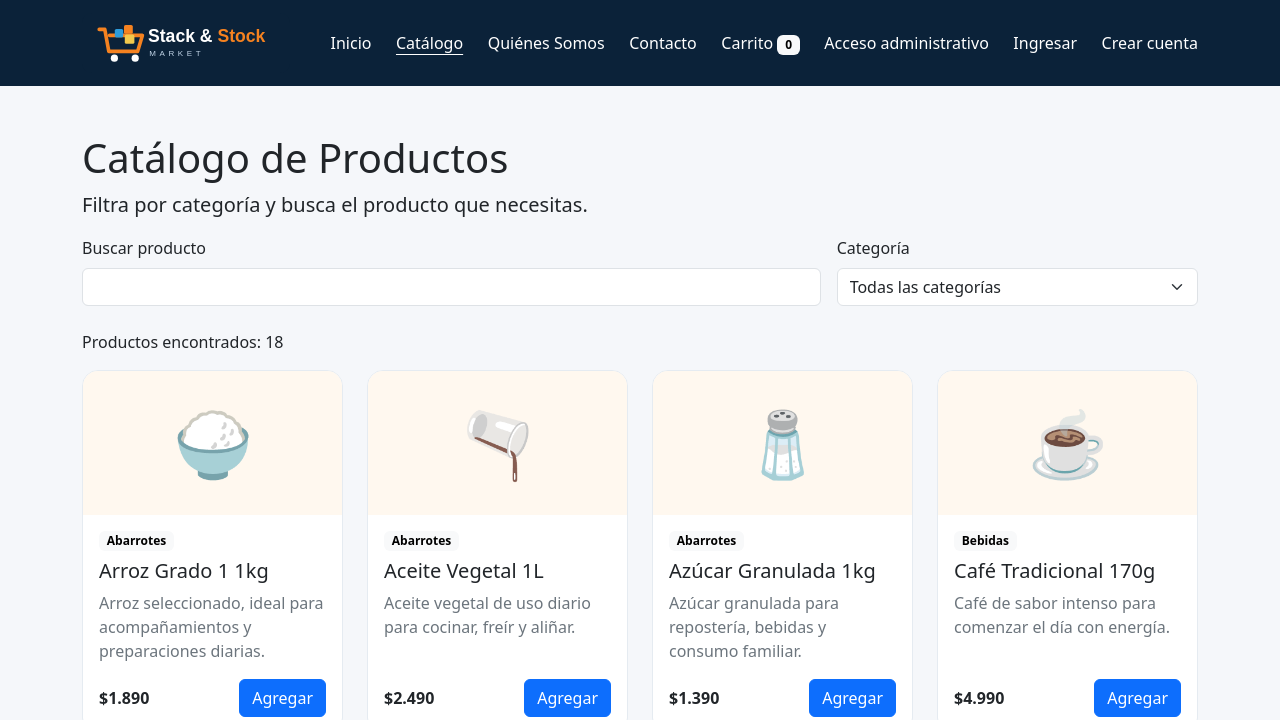
it: Catálogo y carrito compartidos › muestra los dieciocho productos originales y combina búsqueda sin acentos con categoría
Type " cafe " into the search field labelled "Buscar producto". click: (451, 287)
box: x1=82 y1=268 x2=821 y2=306
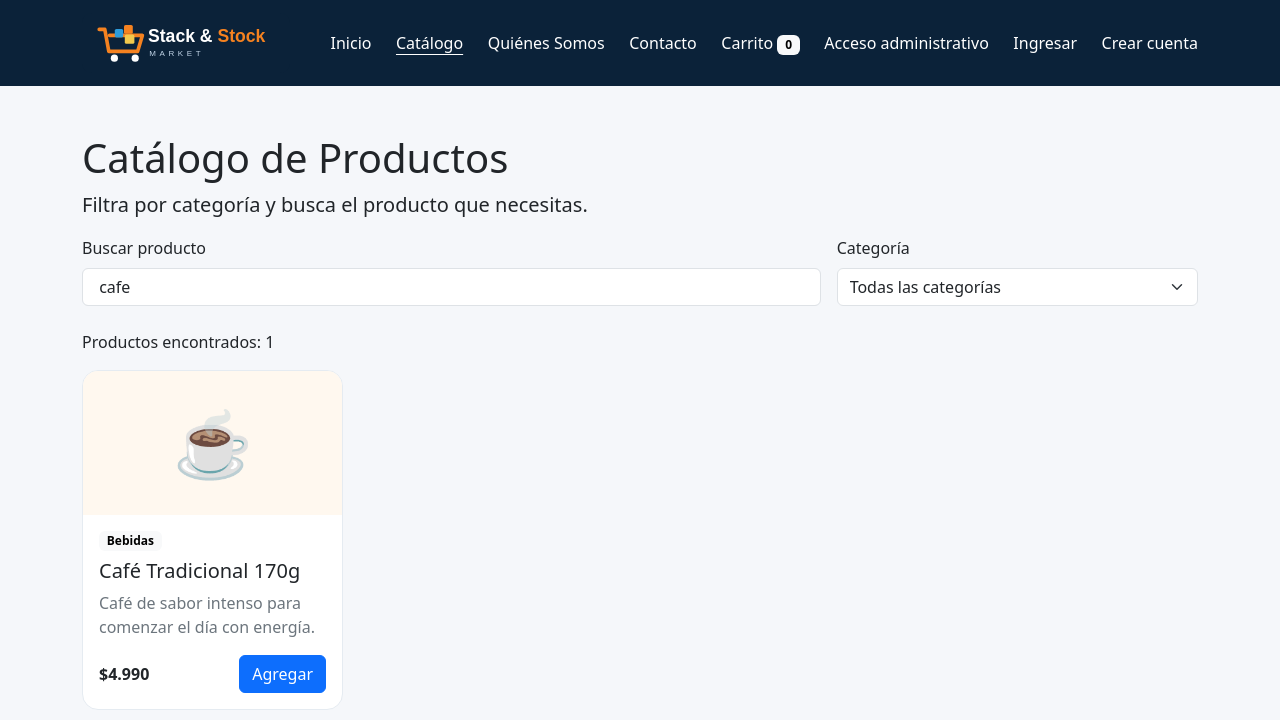
Expected: the heading "Café Tradicional 170g" is shown, x1=99 y1=559 x2=326 y2=583
Select "Lácteos" in the dropdown labelled "Categoría". click: (1017, 287)
box: x1=837 y1=268 x2=1198 y2=306
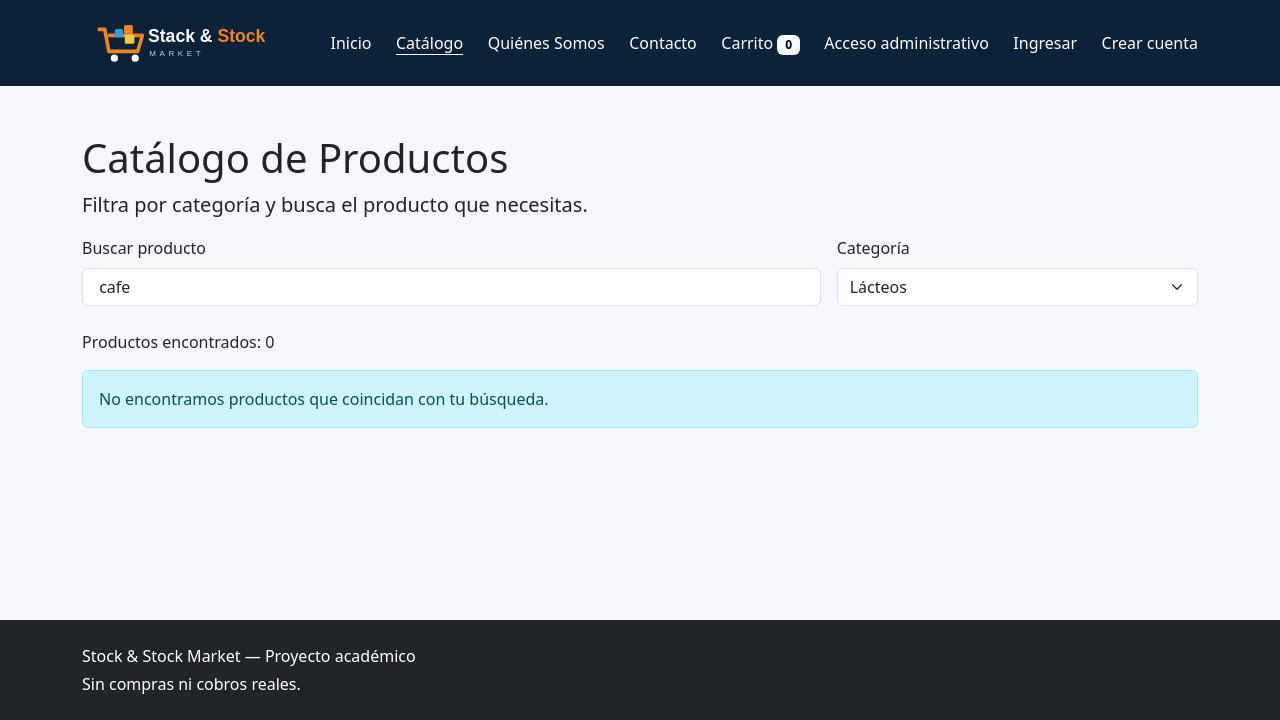
Result: the text "No encontramos productos que coincidan con tu búsqueda." is shown at x1=82 y1=370 x2=1198 y2=428
Clear the search field labelled "Buscar producto". click: (451, 287)
box: x1=82 y1=268 x2=821 y2=306
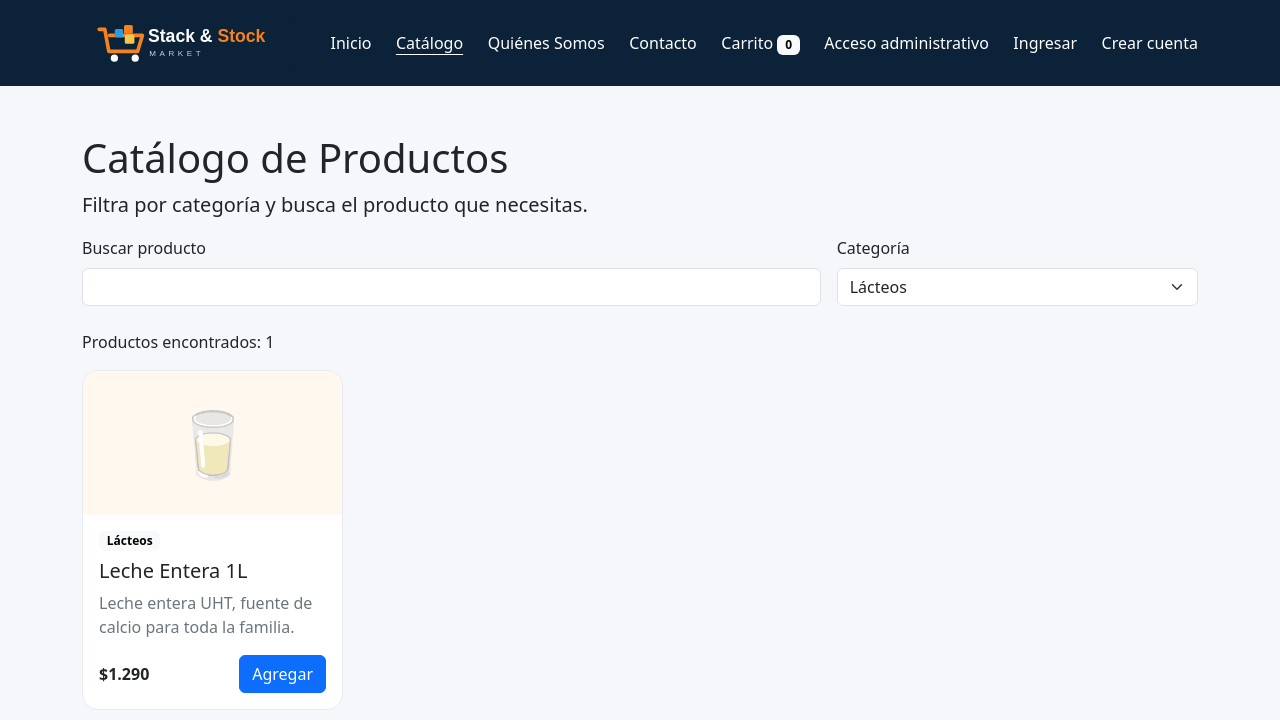
Result: the heading "Leche Entera 1L" is shown at x1=99 y1=557 x2=247 y2=584
